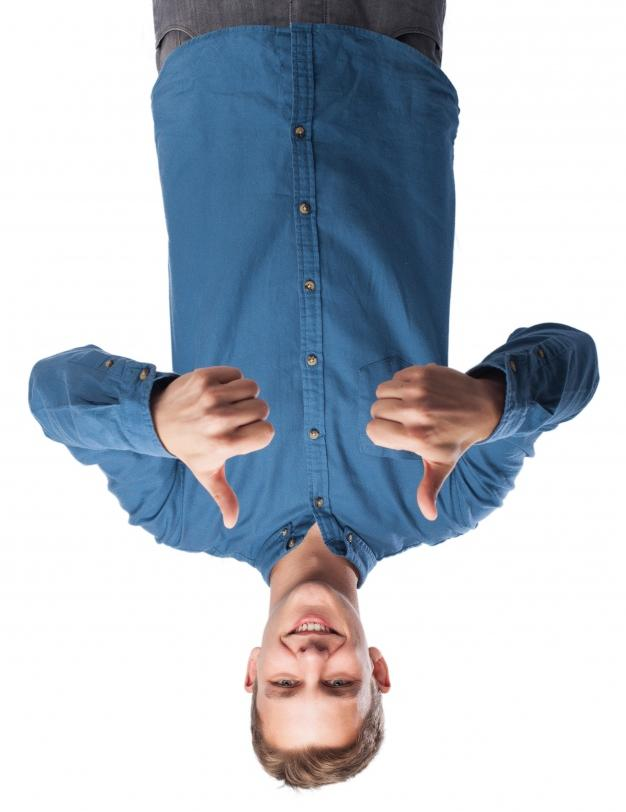thumbsdown: (190, 367, 275, 529), (366, 364, 449, 521)
